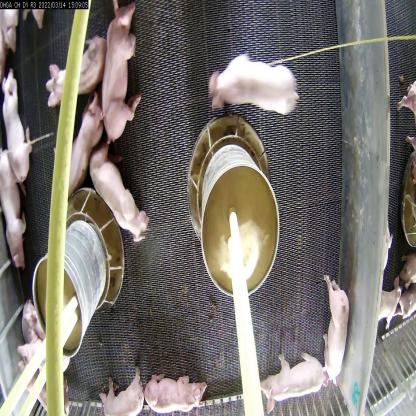Pig: (98, 0, 146, 150), (88, 143, 152, 247), (207, 52, 301, 122), (257, 348, 326, 416), (46, 35, 110, 107), (1, 69, 37, 191), (62, 94, 104, 197), (0, 144, 29, 278), (320, 268, 350, 388), (144, 371, 212, 412), (98, 364, 145, 416)
